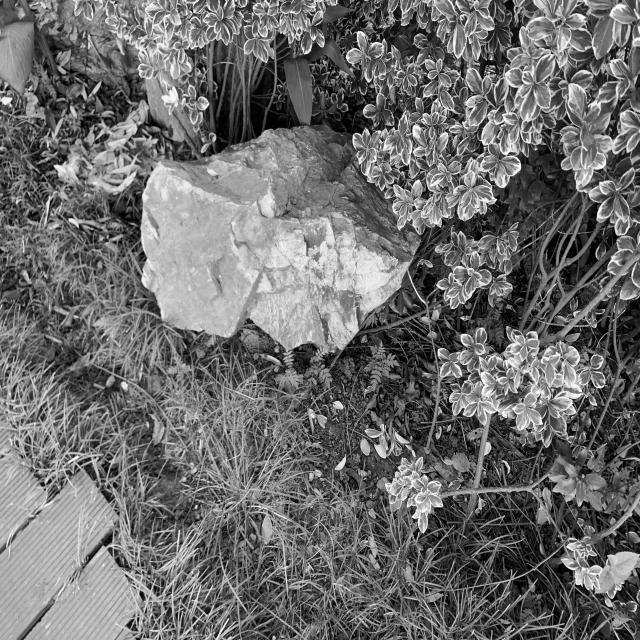Stone: (141, 126, 419, 352)
